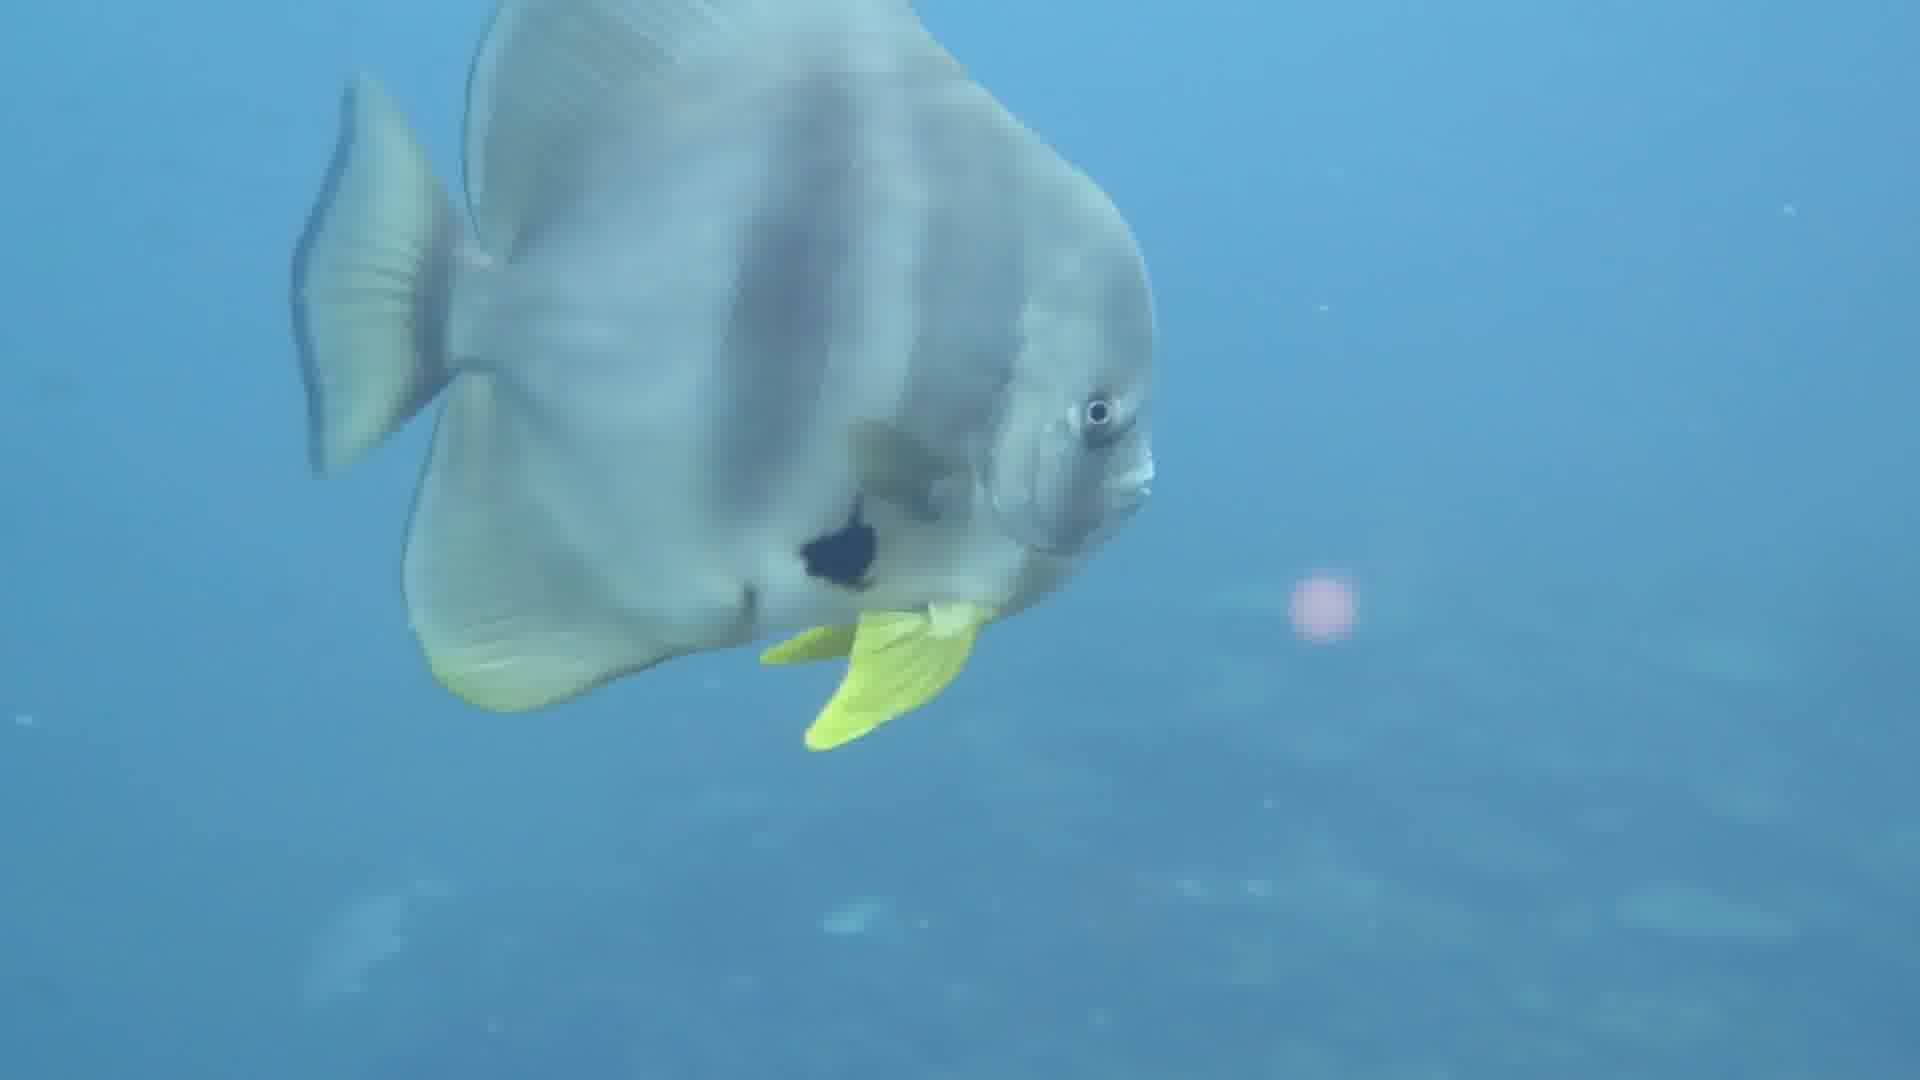Platax teira: (289, 1, 1160, 889)
